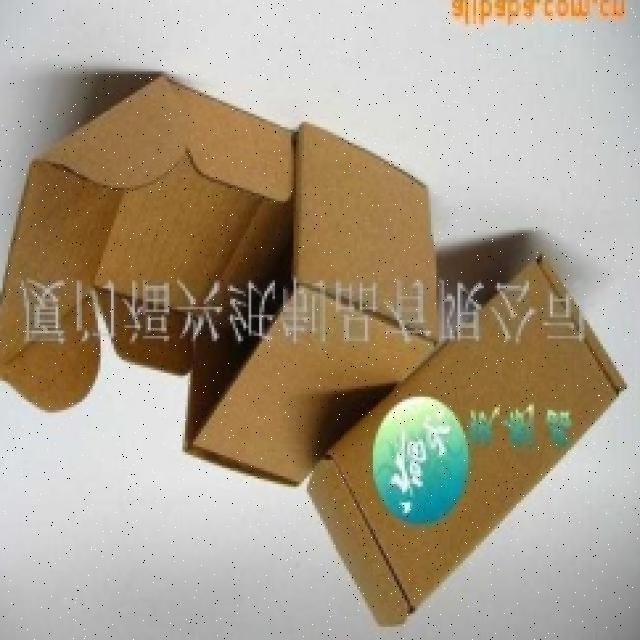box: (0, 114, 436, 514), (302, 239, 640, 637)
